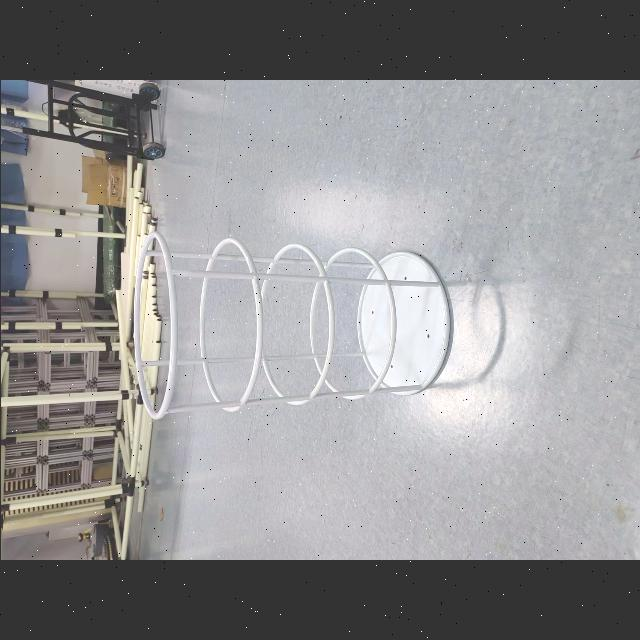S: (130, 228, 454, 422)
